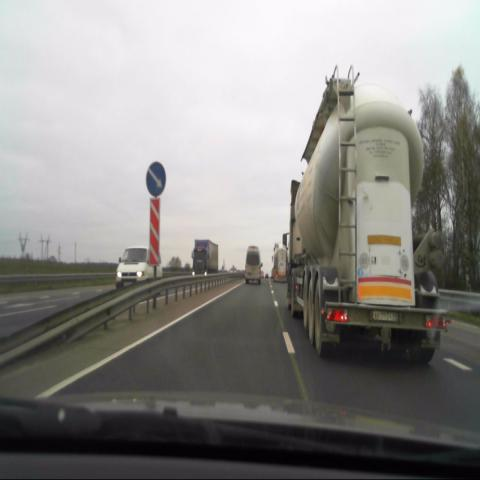4_2_1: (144, 158, 168, 202)
